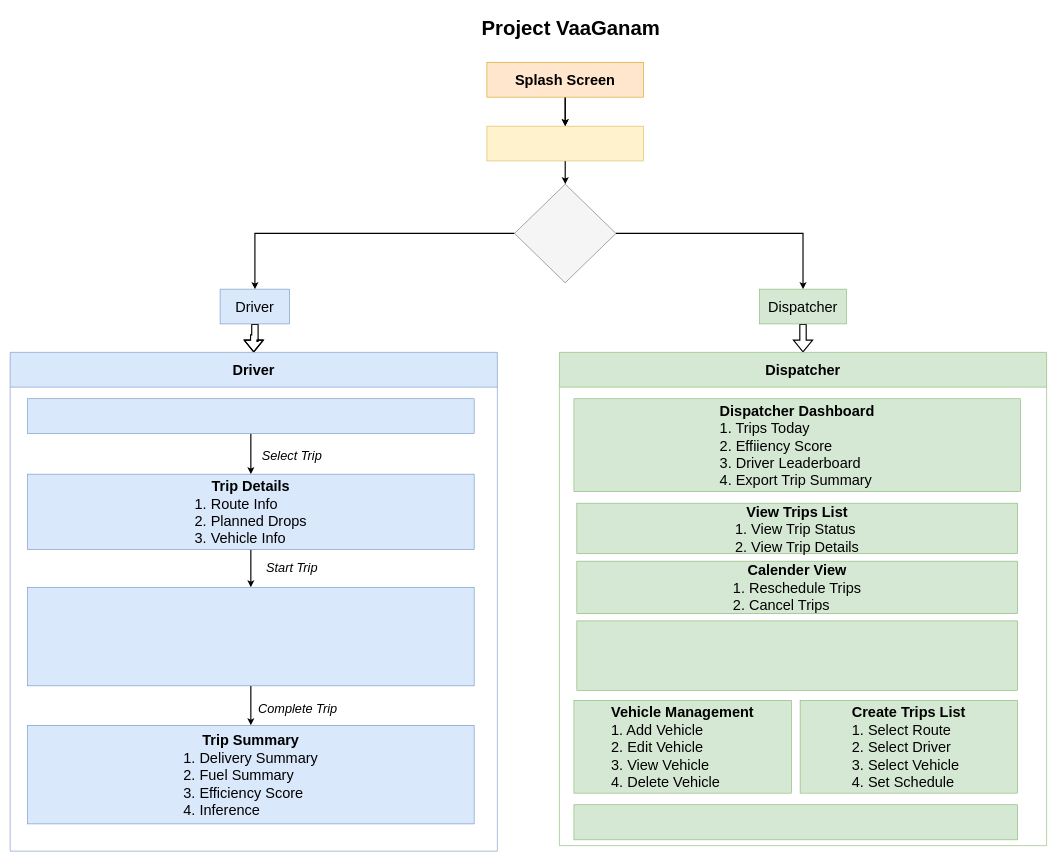
Image size: 1057x861. Some labels were removed from this diagram. Here are the shapes that lost their labels. From the top down, the centre of each, then its label:
At point (565, 143): "Login".
At point (565, 233): "Identify Role".
At point (250, 416): "Driver Home (Today’s Trips List)".
At point (250, 636): "Trip In Progress 1. Pause / Play Trip 2. Log Delivery 3. Log Fuel 4. Comments".
At point (797, 655): "Route Management 1. Add Route 2. Edit Route 3. View Route List".
At point (795, 822): "Driver Management 1. View Driver List".
